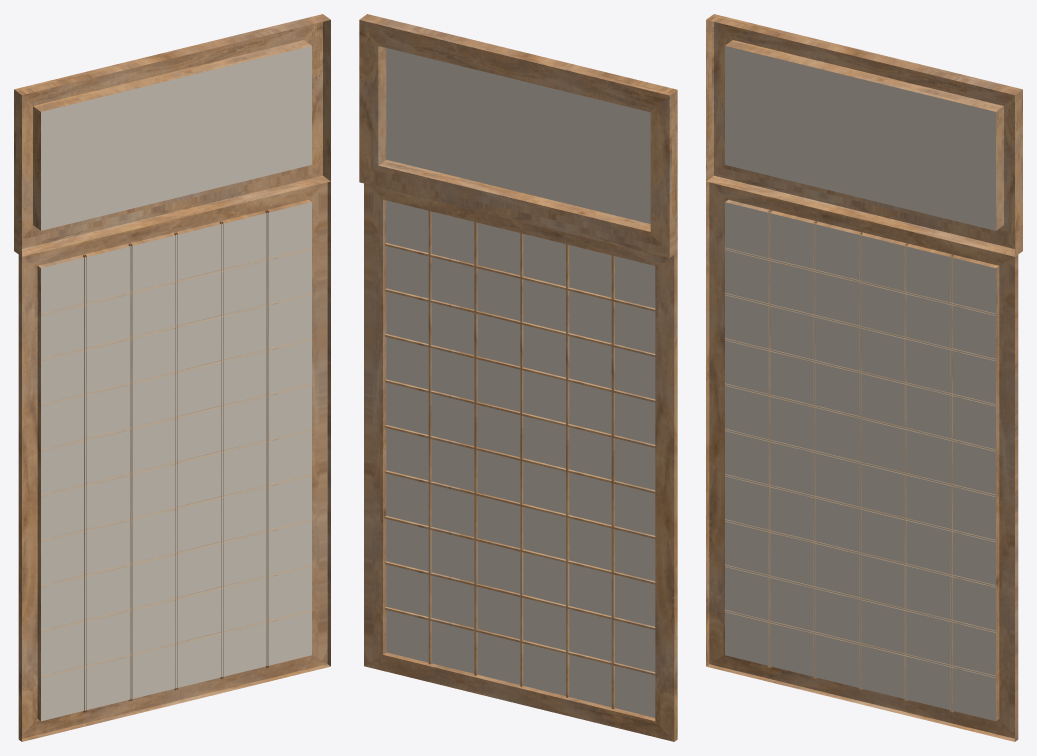
Rendered from NNJ0510005.fbx.
The picture shows the model from 3 angles, left to right: view 1: azimuth 30°, elevation 25°; view 2: azimuth 150°, elevation 25°; view 3: azimuth 330°, elevation 25°; orthographic projection.
Parts seen in each view (by area): view 1: smNNJ0510005; view 2: smNNJ0510005; view 3: smNNJ0510005.
Part boxes in pixels (x1,y1,x2,y2): smNNJ0510005: (14, 14, 330, 741); smNNJ0510005: (359, 14, 677, 741); smNNJ0510005: (706, 14, 1022, 741).
Bounding box in the file's own units: 170 × 341 × 8.01.
1 material, 1 textured.
